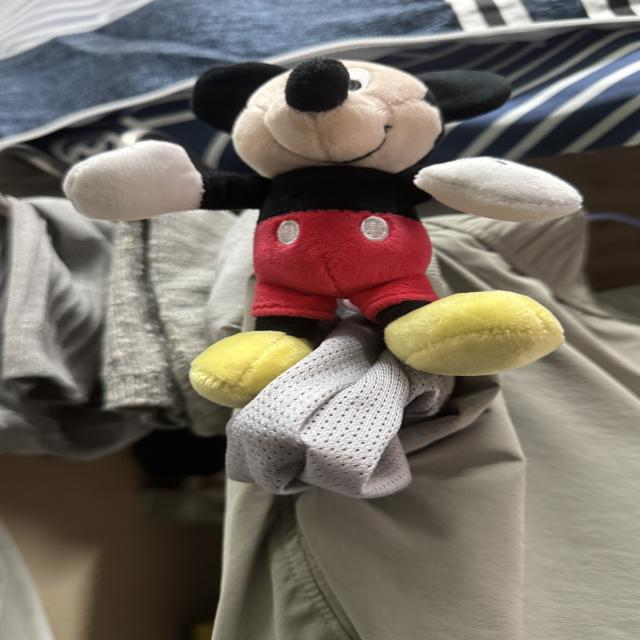mickey: (65, 58, 580, 407)
